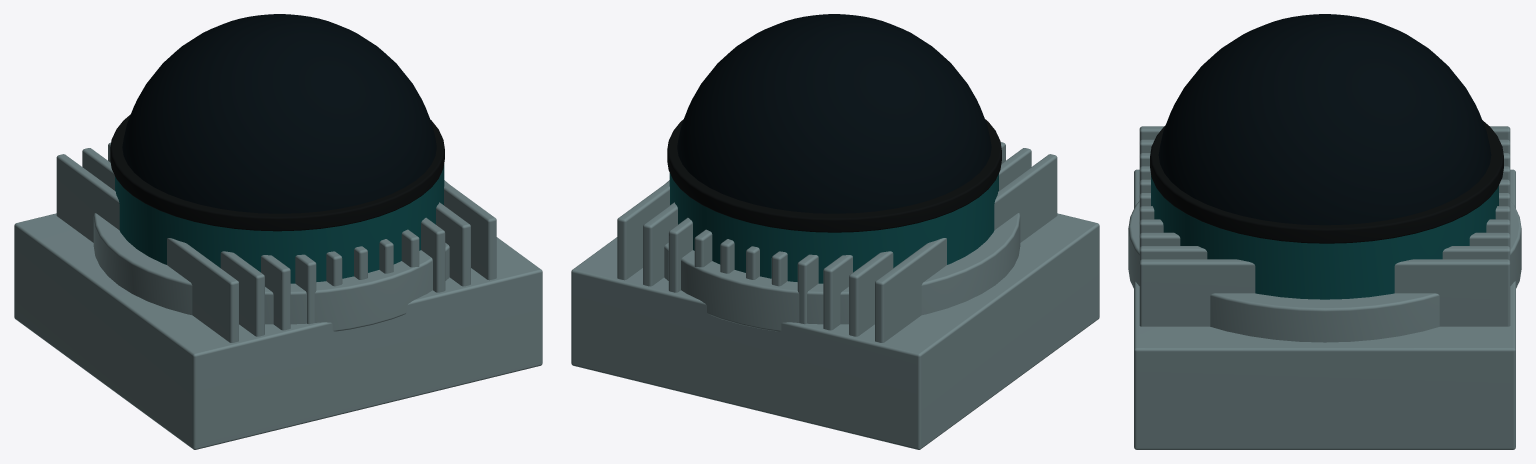
File: lidar.obj
3 renders of one model, left to right at view 1: azimuth 30°, elevation 25°; view 2: azimuth 150°, elevation 25°; view 3: azimuth 270°, elevation 25°, orthographic. The views are drawn at different scales.
Parts seen in each view (by area): view 1: LiDAR_heat_sink_fin.001, Dome_lower_trim; view 2: LiDAR_heat_sink_fin.001, Dome_lower_trim; view 3: LiDAR_heat_sink_fin.001, Dome_lower_trim.
Boxes of the visible parts, x1,y1,x2,y2 form: LiDAR_heat_sink_fin.001: (14, 14, 542, 449); Dome_lower_trim: (110, 114, 444, 231); LiDAR_heat_sink_fin.001: (571, 14, 1099, 449); Dome_lower_trim: (667, 119, 1001, 232); LiDAR_heat_sink_fin.001: (1128, 14, 1521, 449); Dome_lower_trim: (1150, 120, 1503, 243).
Size of the model in its own units: 0.076 by 0.0651 by 0.07.
